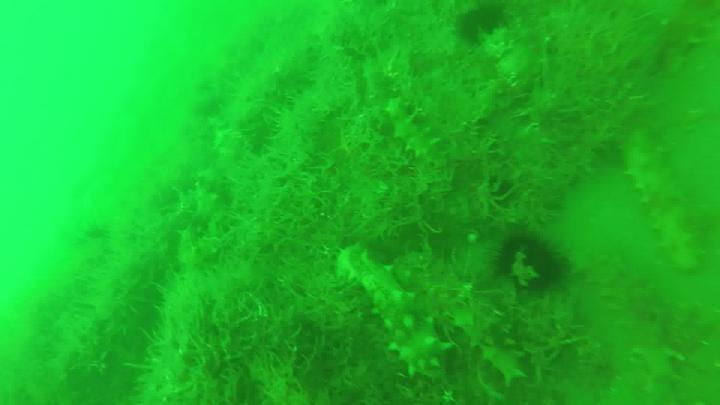echinus: (492, 234, 567, 288), (450, 1, 512, 43)
holothurian: (325, 245, 450, 379), (580, 262, 685, 385), (617, 150, 706, 270), (448, 285, 525, 394), (382, 103, 445, 166)
